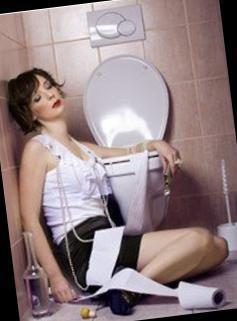Drunk: (27, 73, 65, 117)
